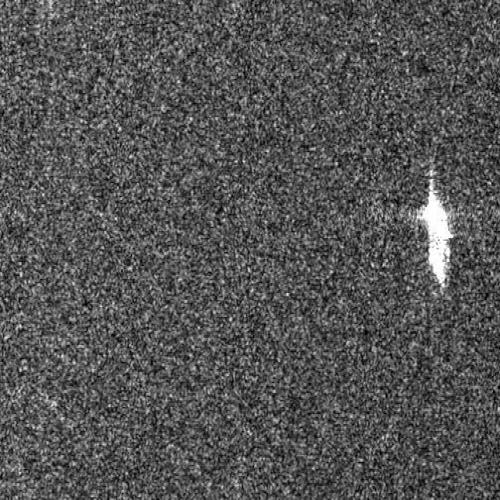ship: (421, 190, 451, 287)
